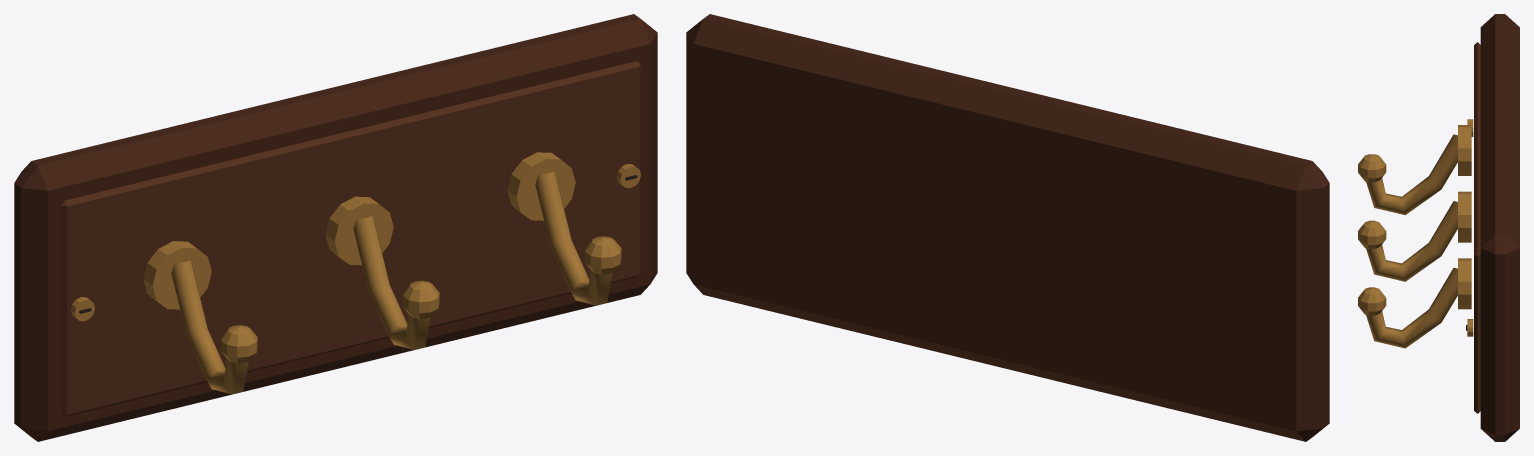
Rendered from BedroomCoatRail.glb.
3 renders of one model, left to right at view 1: azimuth 30°, elevation 25°; view 2: azimuth 150°, elevation 25°; view 3: azimuth 270°, elevation 25°, orthographic. The views are drawn at different scales.
Visible parts, largest first — view 1: RailInset, OakRail, BrassCoatHook, BrassCoatHook.001, BrassCoatHook.002, HookRose, HookRose.002, HookRose.001, RoundedHookTip, RoundedHookTip.001, RoundedHookTip.002; view 2: OakRail; view 3: OakRail, RailInset, BrassCoatHook, BrassCoatHook.001, BrassCoatHook.002, HookRose.001, HookRose.002, HookRose, RoundedHookTip.001, RoundedHookTip.002, RoundedHookTip.
Boxes of the visible parts, <box> form: RailInset: <box>61,61,640,416</box>; OakRail: <box>14,14,657,441</box>; BrassCoatHook: <box>171,260,248,394</box>; BrassCoatHook.001: <box>353,216,430,349</box>; BrassCoatHook.002: <box>535,171,612,305</box>; HookRose: <box>143,241,211,309</box>; HookRose.002: <box>507,152,575,220</box>; HookRose.001: <box>325,196,393,265</box>; RoundedHookTip: <box>221,325,257,363</box>; RoundedHookTip.001: <box>403,280,439,319</box>; RoundedHookTip.002: <box>585,236,621,274</box>; OakRail: <box>686,14,1329,441</box>; OakRail: <box>1480,14,1519,441</box>; RailInset: <box>1474,42,1480,413</box>; BrassCoatHook: <box>1366,134,1457,215</box>; BrassCoatHook.001: <box>1366,201,1457,281</box>; BrassCoatHook.002: <box>1366,268,1457,348</box>; HookRose.001: <box>1458,191,1471,242</box>; HookRose.002: <box>1458,258,1471,309</box>; HookRose: <box>1458,125,1471,175</box>; RoundedHookTip.001: <box>1358,220,1386,249</box>; RoundedHookTip.002: <box>1358,287,1386,315</box>; RoundedHookTip: <box>1358,154,1386,182</box>.
Size of the model in its own units: 2.8 by 1.16 by 0.8213.
